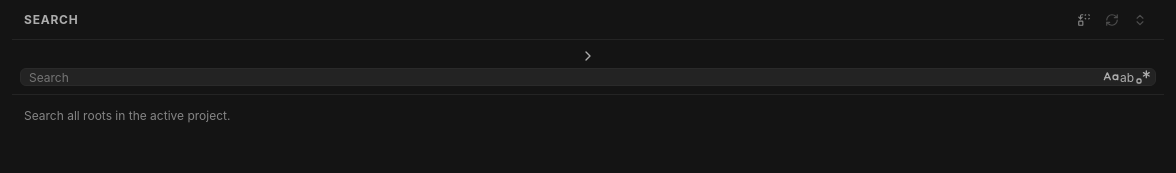
Scenario: Workspace Search view › emphasizes the exact whole-word occurrence represented by each result row
The width and height of the screenshot is (1176, 173).
Type "cat" into the search field named "Search text".
click(564, 77); type("cat")  # box [29,69,1099,85]
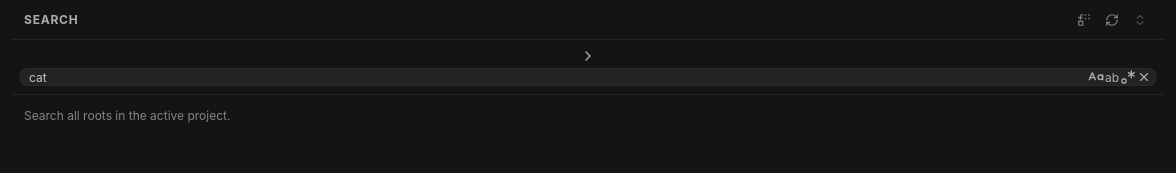
Click the button with aria-label "Match whole word".
click(1112, 77)  # box [1105,70,1119,84]
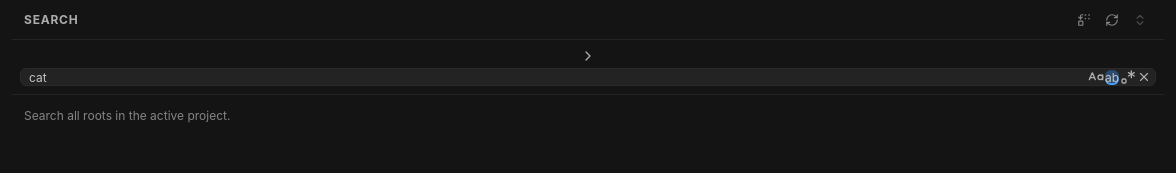
Submit the form named "Search text", box [12,40,1164,95]
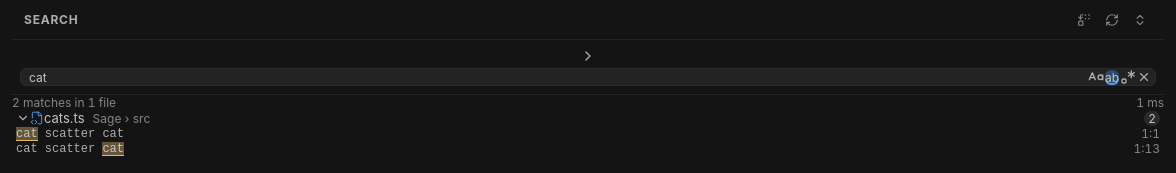
Check: the number of buttons named "Open src/cats.ts at line 1, column" is 2, box [16,126,1160,141]; [16,141,1160,156]
